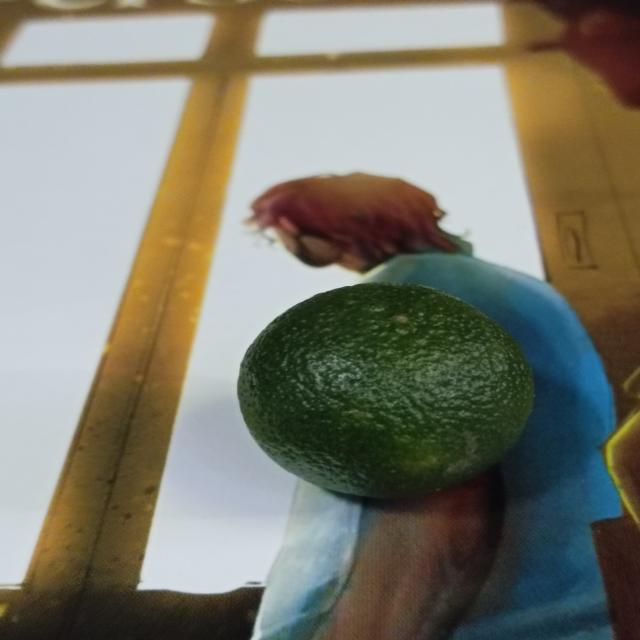heathy: (238, 283, 543, 507)
